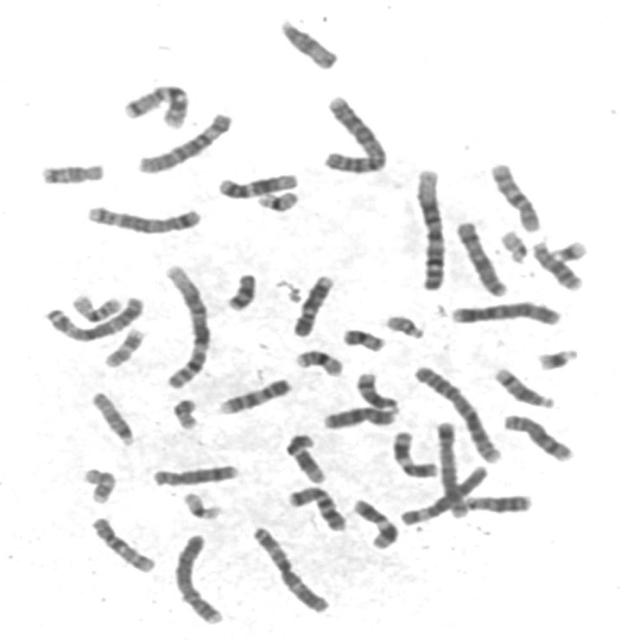A1: (157, 259, 214, 392), (410, 163, 449, 292)
A2: (408, 361, 504, 465), (316, 90, 391, 174)
A3: (246, 522, 333, 614), (40, 292, 146, 344)
B4: (170, 530, 226, 625), (445, 296, 564, 327)
B5: (82, 200, 204, 236), (431, 416, 471, 520)
C10: (85, 512, 159, 574), (485, 157, 544, 233)
C11: (348, 494, 401, 552), (388, 426, 440, 480)
C12: (214, 168, 302, 200), (280, 429, 328, 485)
C6: (132, 107, 235, 176), (396, 461, 491, 527)
C7: (118, 78, 192, 130), (282, 481, 350, 533)
C8: (498, 409, 577, 464), (148, 460, 242, 488)
C9: (214, 374, 296, 416), (288, 270, 336, 338)
D13: (528, 236, 586, 292), (455, 489, 534, 516)
D14: (489, 363, 558, 410), (352, 367, 402, 414)
D15: (275, 13, 341, 71), (86, 387, 138, 448)
E16: (66, 289, 125, 324), (290, 345, 346, 378)
E17: (99, 322, 148, 370), (79, 463, 120, 505)
E18: (36, 157, 107, 186), (221, 268, 260, 312)
F19: (178, 487, 224, 522), (252, 186, 302, 213)
F20: (341, 326, 386, 354), (168, 394, 201, 431)
G21: (532, 343, 581, 372), (546, 234, 590, 264)
G22: (381, 310, 427, 340), (496, 225, 531, 264)
X: (451, 216, 510, 299), (318, 402, 399, 431)
